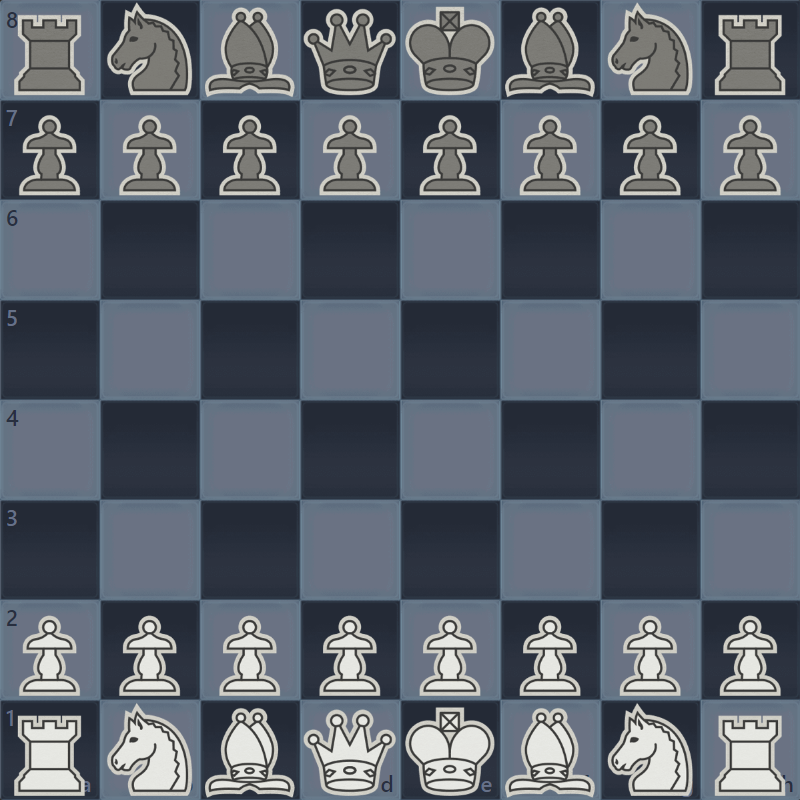B: (205, 705, 297, 798), (505, 707, 597, 800)
K: (403, 705, 496, 797)
N: (607, 702, 695, 799), (105, 703, 193, 798)
P: (17, 612, 82, 699), (116, 612, 181, 699), (215, 610, 280, 697), (315, 611, 380, 698), (416, 611, 481, 698), (516, 610, 581, 697), (617, 610, 682, 697), (717, 612, 782, 699)
Q: (301, 703, 399, 798)
R: (708, 711, 791, 800), (8, 713, 89, 797)
b: (205, 6, 294, 99), (505, 6, 594, 99)
k: (404, 4, 496, 97)
n: (105, 1, 193, 98), (607, 1, 692, 97)
p: (16, 111, 85, 196), (213, 113, 282, 198), (313, 112, 382, 197), (414, 113, 483, 198), (516, 111, 585, 196), (615, 112, 684, 197), (716, 113, 785, 198), (117, 113, 181, 197)
q: (305, 8, 397, 98)
r: (11, 10, 89, 97), (713, 10, 790, 98)
